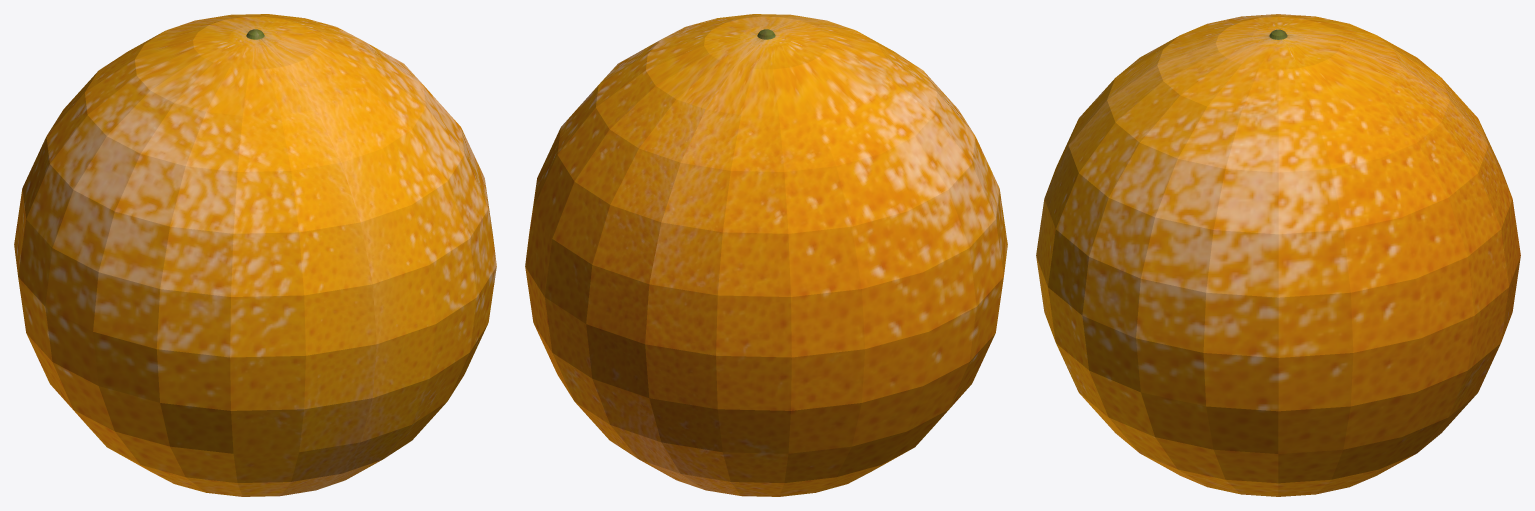
The model's file is orange.fbx.
3 views of the same model, side by side, from view 1: azimuth 30°, elevation 25°; view 2: azimuth 150°, elevation 25°; view 3: azimuth 270°, elevation 25° (orthographic).
Parts seen in each view (by area): view 1: orange; view 2: orange; view 3: orange.
Boxes of the visible parts, x1=… form: orange: x1=14, y1=14, x2=496, y2=496; orange: x1=525, y1=14, x2=1007, y2=496; orange: x1=1036, y1=14, x2=1520, y2=496.
Bounding box in the file's own units: 200 × 203 × 200.
